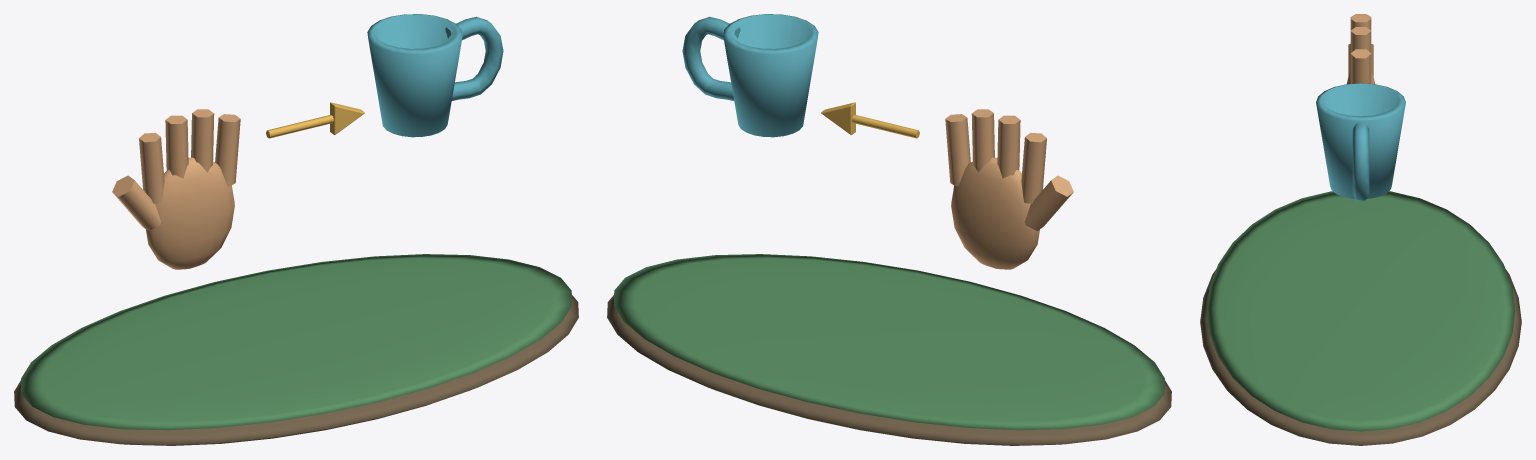
File: throwing-pitcher.glb
3 renders of one model, left to right at view 1: azimuth 30°, elevation 25°; view 2: azimuth 150°, elevation 25°; view 3: azimuth 270°, elevation 25°, orthographic. The views are drawn at different scales.
Visible parts, largest first — view 1: throwing-pitcher_surface_01, throwing-pitcher_surface_02, throwing-pitcher_surface_03, throwing-pitcher_surface_00, throwing-pitcher_surface_04; view 2: throwing-pitcher_surface_01, throwing-pitcher_surface_02, throwing-pitcher_surface_03, throwing-pitcher_surface_00, throwing-pitcher_surface_04; view 3: throwing-pitcher_surface_01, throwing-pitcher_surface_03, throwing-pitcher_surface_00, throwing-pitcher_surface_02.
Boxes of the visible parts, left/top/right/bottom form: throwing-pitcher_surface_01: left=21, top=254, right=571, bottom=430; throwing-pitcher_surface_02: left=112, top=109, right=240, bottom=269; throwing-pitcher_surface_03: left=367, top=14, right=503, bottom=137; throwing-pitcher_surface_00: left=14, top=295, right=578, bottom=445; throwing-pitcher_surface_04: left=266, top=102, right=364, bottom=138; throwing-pitcher_surface_01: left=614, top=254, right=1164, bottom=430; throwing-pitcher_surface_02: left=945, top=109, right=1073, bottom=269; throwing-pitcher_surface_03: left=682, top=14, right=818, bottom=137; throwing-pitcher_surface_00: left=607, top=295, right=1171, bottom=445; throwing-pitcher_surface_04: left=821, top=102, right=919, bottom=138; throwing-pitcher_surface_01: left=1206, top=191, right=1515, bottom=431; throwing-pitcher_surface_03: left=1316, top=83, right=1405, bottom=201; throwing-pitcher_surface_00: left=1200, top=269, right=1521, bottom=445; throwing-pitcher_surface_02: left=1346, top=14, right=1375, bottom=83.
Bounding box in the file's own units: 4.56 × 2.5 × 2.5.
